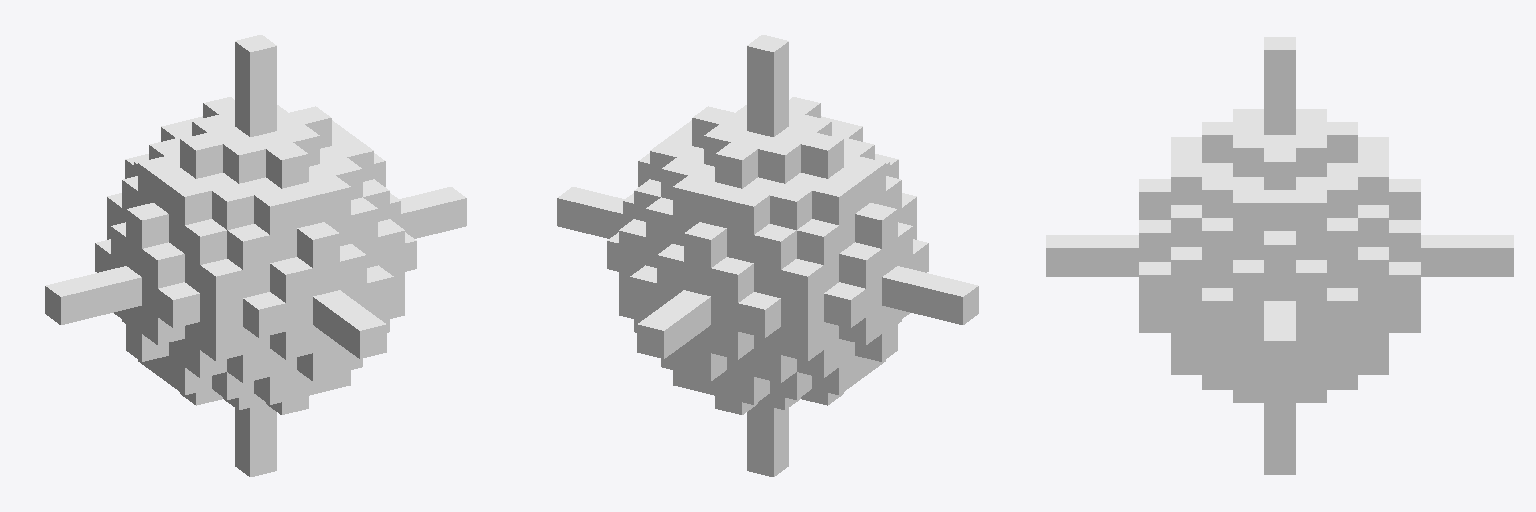
Rendered from Aian.obj.
3 renders of one model, left to right at view 1: azimuth 30°, elevation 25°; view 2: azimuth 150°, elevation 25°; view 3: azimuth 270°, elevation 25°, orthographic.
Parts seen in each view (by area): view 1: object 1; view 2: object 1; view 3: object 1.
Boxes of the visible parts, x1=… form: object 1: x1=45, y1=35, x2=466, y2=476; object 1: x1=557, y1=35, x2=978, y2=476; object 1: x1=1046, y1=37, x2=1513, y2=474.
Bounding box in the file's own units: 1.5 × 1.5 × 1.5.